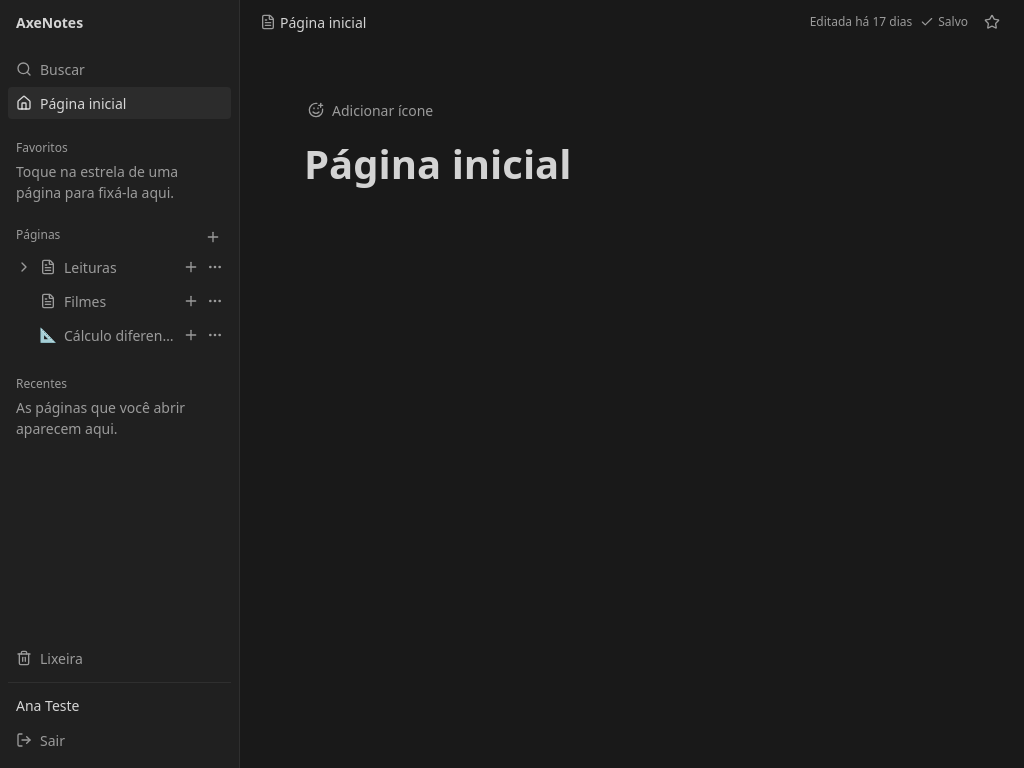
Test: buscar › finds a word from the page body and shows the excerpt with the term highlighted
Type keys "{Control>}k{/Control}"
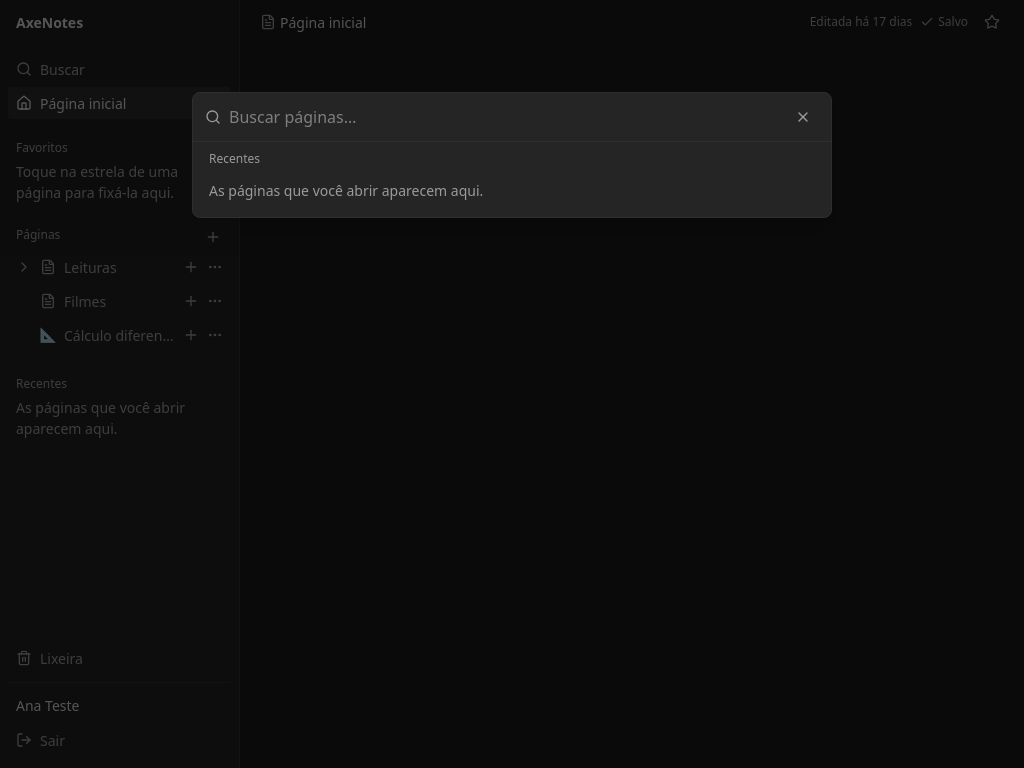
Type "pitagoras" into the dropdown labelled "Buscar páginas". click: (504, 117)
box: [229, 93, 779, 141]
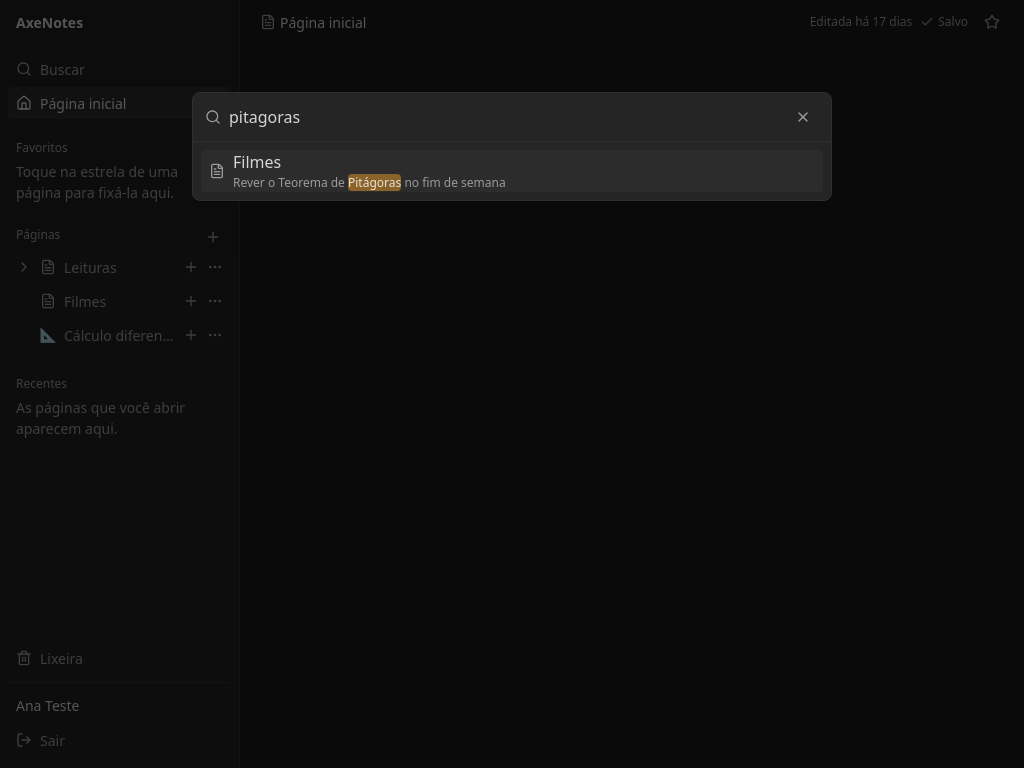
Now the option "Filmes Rever o Teorema de Pitágoras no fim de semana" is shown, box [201, 150, 823, 192]
